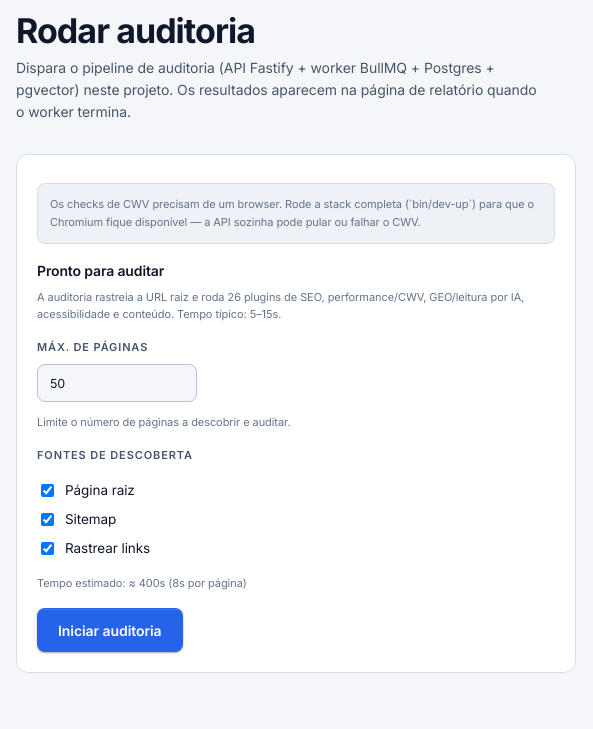
Test: AuditRunner errors › shows translated ErrorState instead of raw Error.message
Click the button.
click(110, 630)  # box [37,608,183,652]
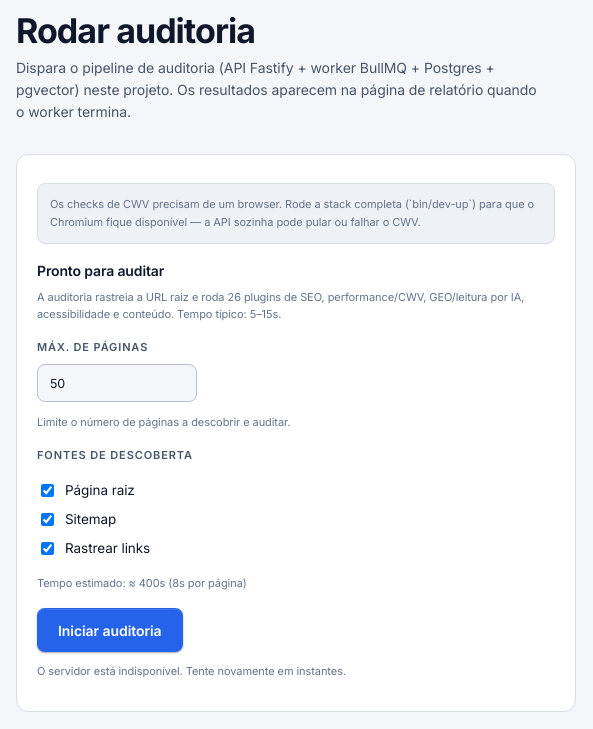
Check: the message reads "O servidor está indisponível. Tente novamente em instantes.", box [37,664,346,678]
